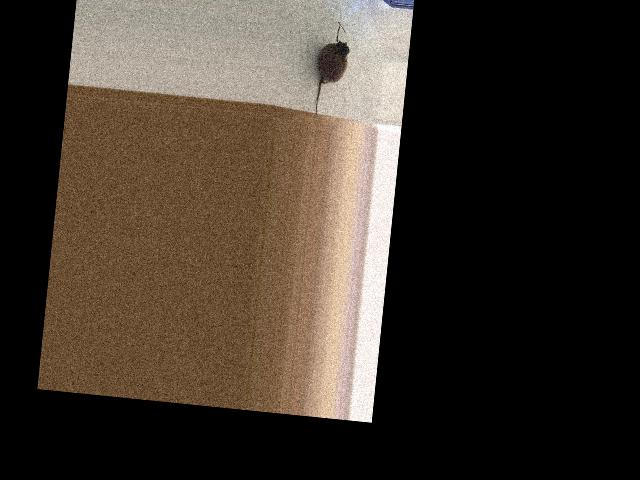beet: (312, 20, 351, 119)
